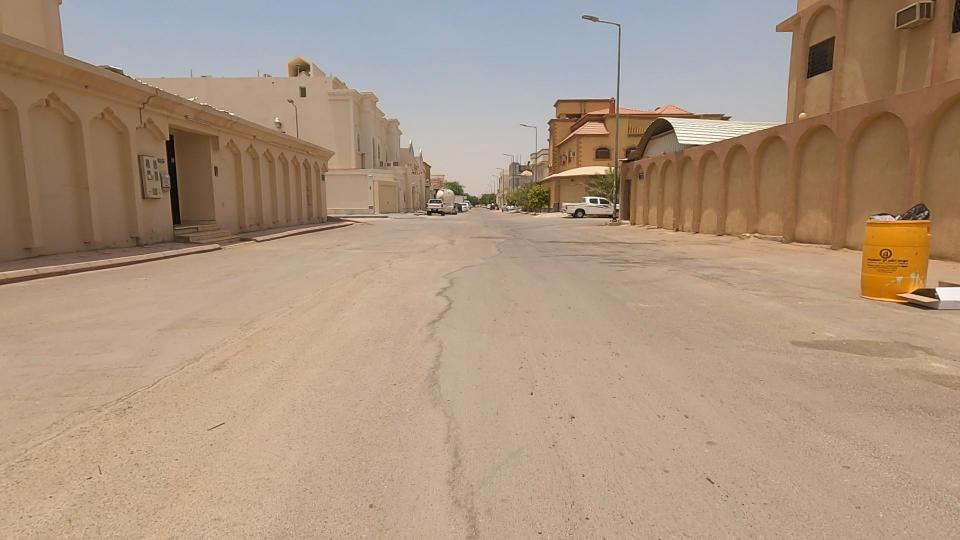GARBAGE: (834, 177, 960, 250), (870, 258, 960, 343)
